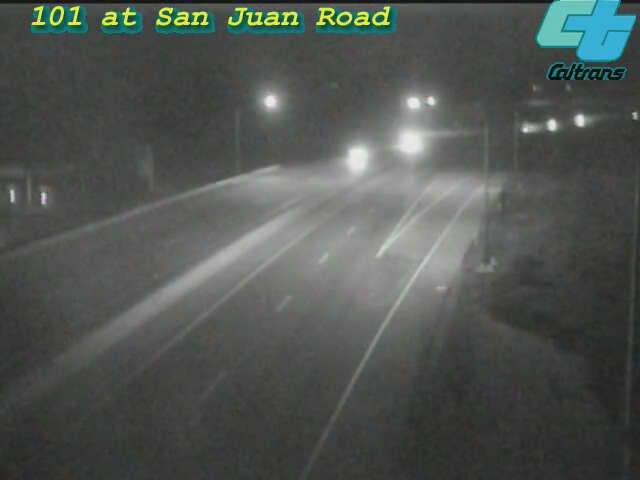vehicle: (331, 133, 381, 183), (382, 116, 432, 166), (556, 95, 606, 145), (527, 100, 577, 150), (502, 102, 552, 152)
